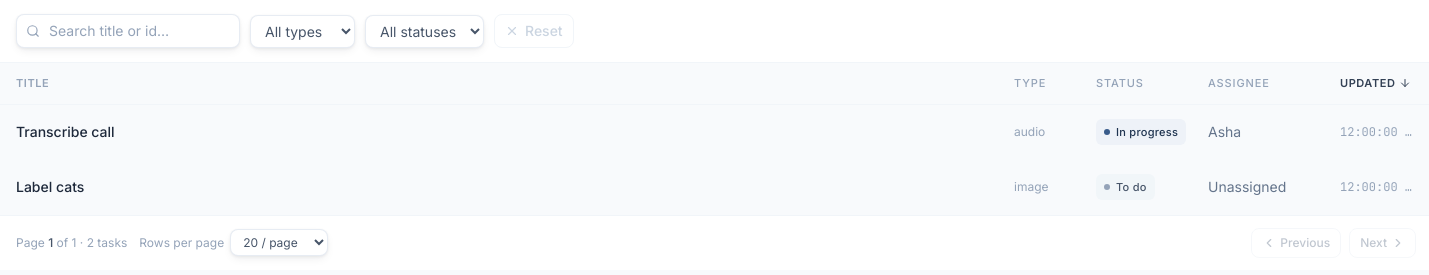
Test: <TaskList /> filtering › hides non-matching rows when a type filter is applied
Step 1. Select "Audio" in the dropdown named "Type" → {"x": 302, "y": 31}, box [250,14,355,48]
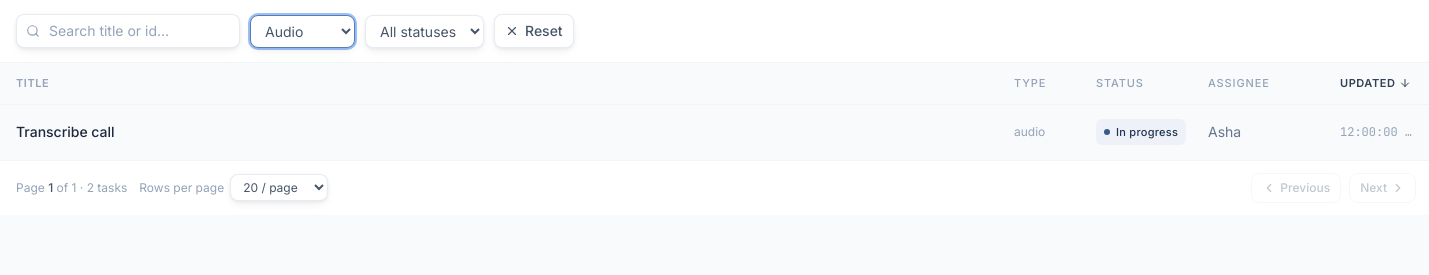
Expected: the text "Transcribe call" is shown, [16,122,115,140]
Expected: the button "Label cats" is gone
